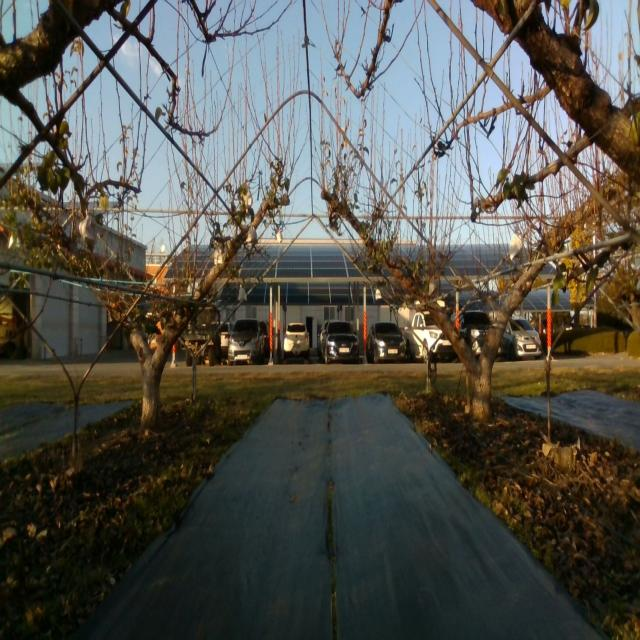pearbags: (79, 215, 97, 255), (508, 233, 524, 263), (246, 225, 258, 243)
